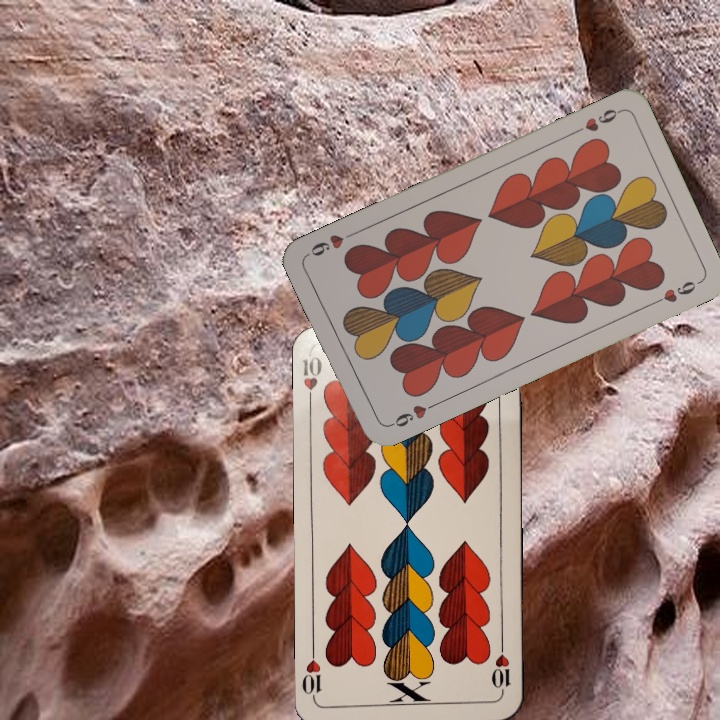H10: (488, 640, 513, 699), (299, 351, 324, 410)
H9: (568, 105, 624, 138), (384, 398, 440, 430)
